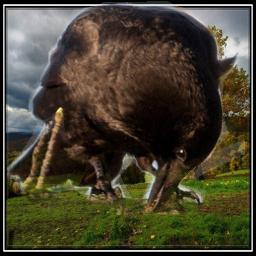Crow: (5, 1, 245, 215)
